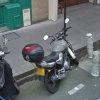Motorcycle: (17, 23, 85, 95)
